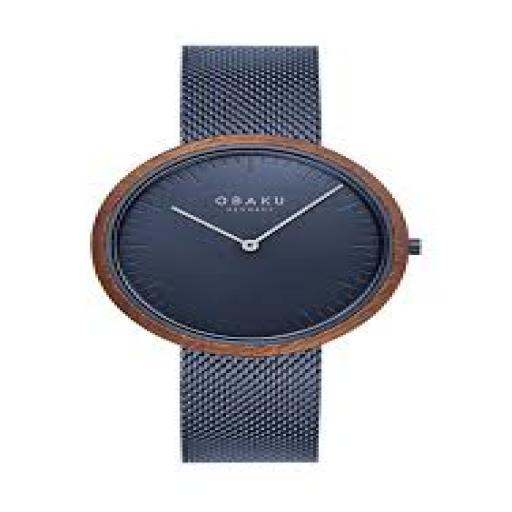KolSaati: (54, 21, 456, 480)
